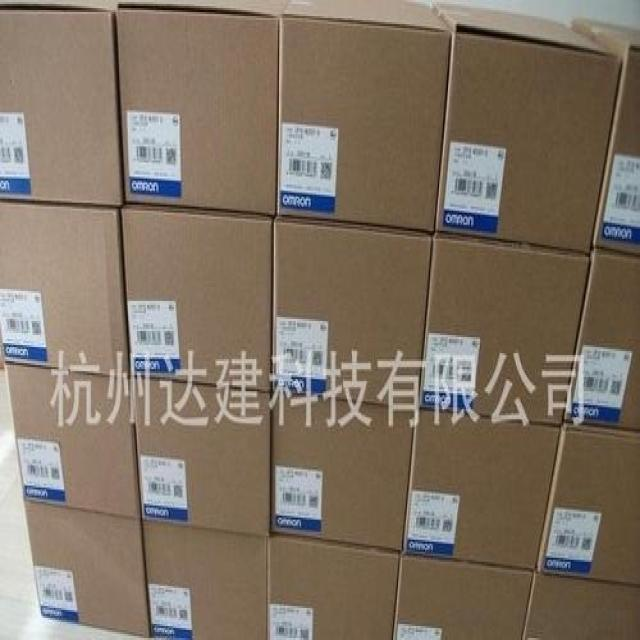box: (428, 3, 623, 253), (279, 2, 451, 232), (115, 2, 290, 214), (418, 234, 589, 426), (272, 218, 431, 410), (120, 210, 273, 390), (0, 2, 123, 208), (403, 413, 561, 569), (271, 393, 415, 553), (0, 204, 130, 377), (130, 378, 271, 535), (6, 364, 141, 518), (24, 500, 150, 636), (568, 19, 639, 253), (536, 427, 638, 586), (142, 520, 266, 638), (564, 247, 639, 431), (268, 538, 400, 638), (394, 556, 534, 638), (525, 571, 639, 638)
